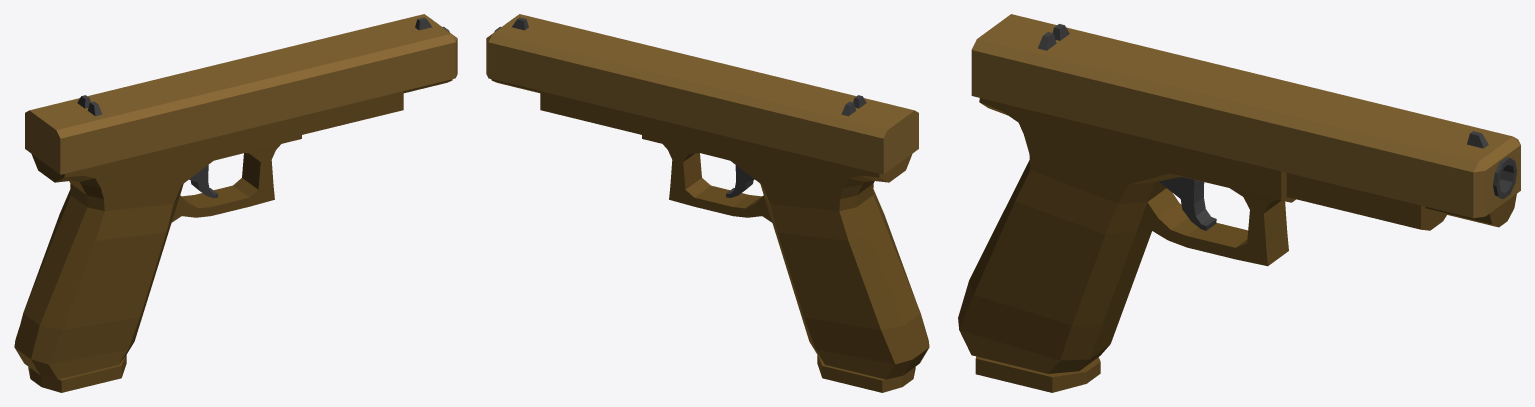
Rendered from Glock19L.fbx.
3 views of the same model, side by side, from view 1: azimuth 30°, elevation 25°; view 2: azimuth 150°, elevation 25°; view 3: azimuth 330°, elevation 25° (orthographic). The views are drawn at different scales.
Parts seen in each view (by area): view 1: Base; view 2: Base; view 3: Base.
Boxes of the visible parts, x1=… form: Base: x1=14, y1=14, x2=457, y2=392; Base: x1=486, y1=14, x2=929, y2=392; Base: x1=958, y1=14, x2=1520, y2=392.
Bounding box in the file's own units: 924 × 562 × 136.
